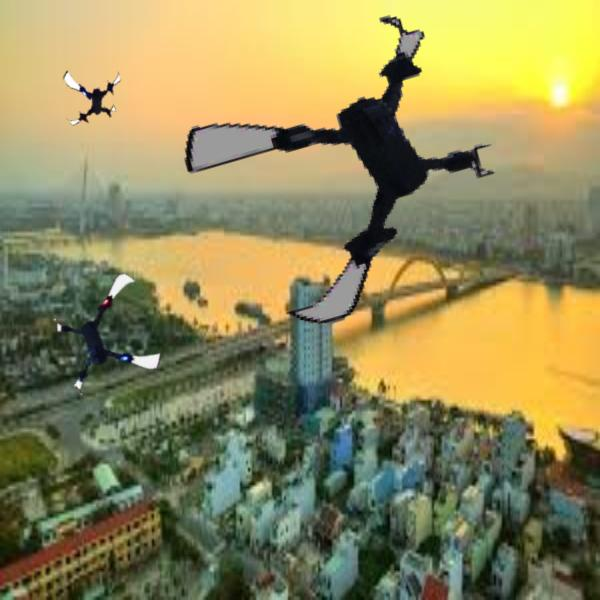drone: (190, 25, 501, 336), (50, 281, 164, 395), (55, 55, 129, 129)
